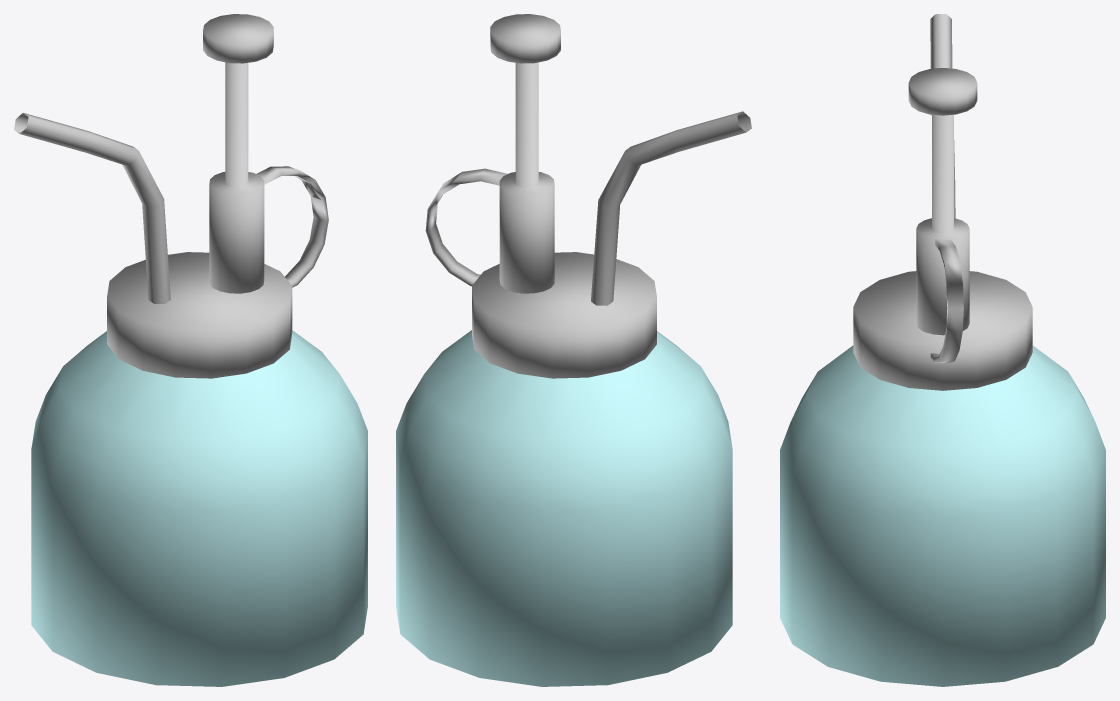
File: sprayer.glb
3 renders of one model, left to right at view 1: azimuth 30°, elevation 25°; view 2: azimuth 150°, elevation 25°; view 3: azimuth 270°, elevation 25°, orthographic. The views are drawn at different scales.
Parts seen in each view (by area): view 1: bottle, cap, pump, nozzle, pumphead, handle; view 2: bottle, cap, pump, nozzle, pumphead, handle; view 3: bottle, cap, pump, pumphead, handle, nozzle.
Boxes of the visible parts, bbox=[...] form: bottle: bbox=[31, 330, 367, 686]; cap: bbox=[107, 252, 292, 378]; pump: bbox=[209, 62, 264, 293]; nozzle: bbox=[14, 113, 170, 303]; pumphead: bbox=[203, 14, 273, 63]; handle: bbox=[256, 166, 328, 287]; bottle: bbox=[396, 330, 732, 686]; cap: bbox=[472, 252, 656, 378]; pump: bbox=[499, 62, 554, 293]; nozzle: bbox=[591, 111, 751, 305]; pumphead: bbox=[490, 14, 560, 63]; handle: bbox=[425, 168, 507, 286]; bottle: bbox=[780, 345, 1105, 686]; cap: bbox=[853, 271, 1032, 390]; pump: bbox=[916, 114, 969, 335]; pumphead: bbox=[908, 68, 977, 115]; handle: bbox=[930, 239, 963, 363]; nozzle: bbox=[930, 14, 955, 218].
Bounding box in the file's own units: 0.1125 × 0.1876 × 0.1.
